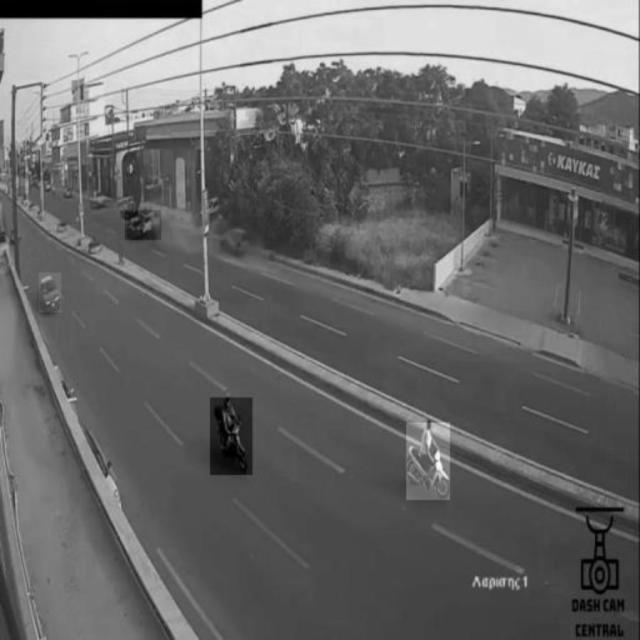accident: (125, 211, 161, 241)
vehicle: (406, 423, 450, 500), (210, 398, 252, 475), (39, 273, 61, 313)
